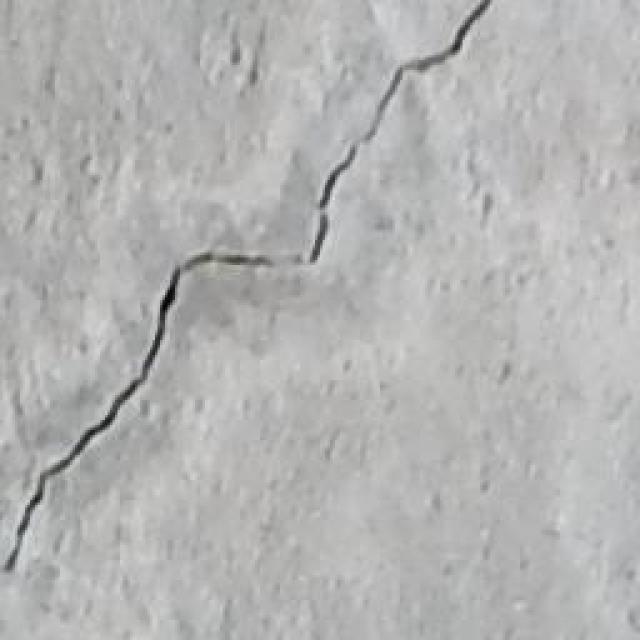concrete-crack: (0, 0, 495, 575)
